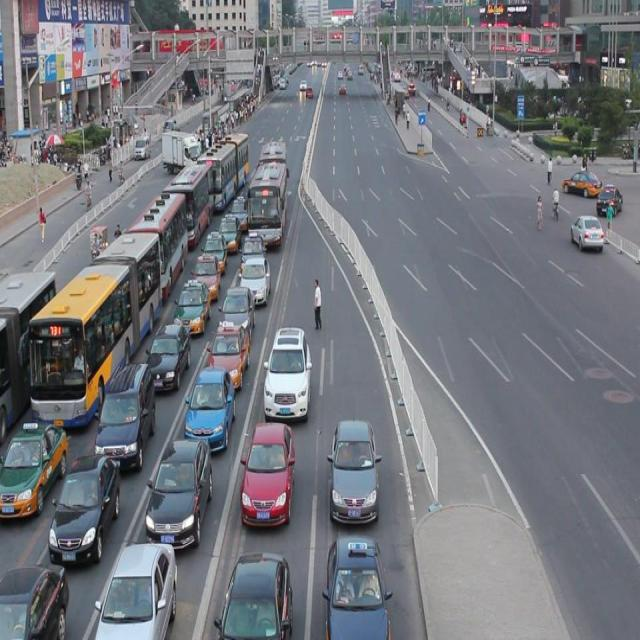bus: (162, 130, 201, 174)
car: (93, 543, 178, 640), (47, 452, 121, 562), (145, 434, 212, 549), (323, 538, 392, 640), (215, 552, 292, 640), (1, 416, 68, 516), (94, 362, 156, 468), (0, 560, 71, 640), (326, 419, 381, 522), (241, 421, 294, 526), (263, 326, 310, 417), (186, 368, 236, 446), (144, 321, 190, 394), (206, 321, 250, 388), (173, 278, 211, 334), (220, 286, 255, 342), (239, 257, 270, 305), (191, 253, 222, 300), (561, 166, 602, 198), (568, 214, 602, 249), (201, 229, 228, 271), (240, 230, 265, 273), (217, 214, 242, 254), (596, 181, 622, 215), (229, 195, 248, 230)
van: (21, 232, 161, 427), (1, 274, 55, 436), (130, 196, 188, 298), (162, 164, 213, 246), (196, 132, 250, 208), (245, 165, 289, 245), (258, 143, 288, 202)
